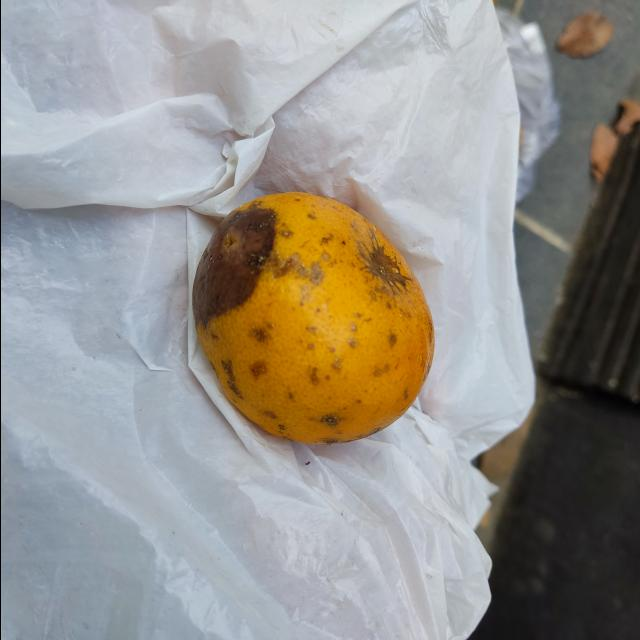orange: (191, 187, 434, 446)
